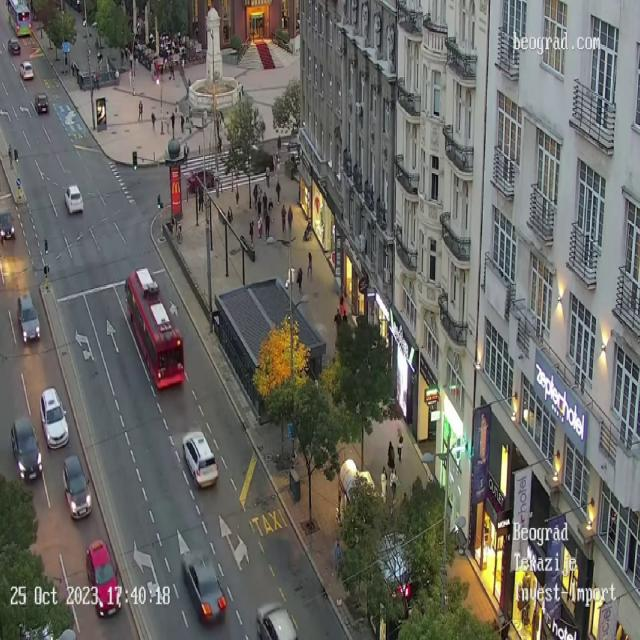bus: (124, 267, 185, 390), (6, 0, 31, 37)
car: (182, 551, 227, 625), (85, 539, 122, 618), (182, 431, 219, 489), (10, 416, 42, 482), (63, 454, 92, 520), (39, 386, 69, 449), (256, 602, 298, 640), (17, 292, 40, 344), (186, 166, 216, 189), (64, 184, 83, 214), (0, 211, 15, 240), (35, 92, 48, 114), (20, 60, 34, 80), (8, 40, 22, 54)
